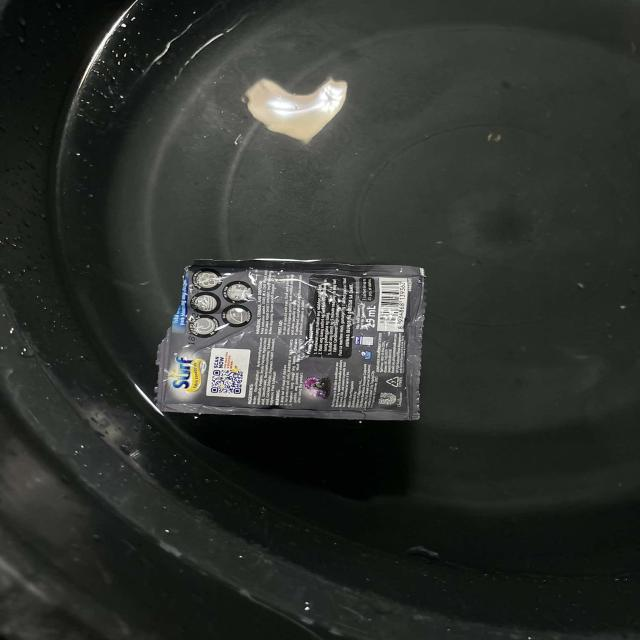Plastic Wrapper: (155, 259, 425, 422)
